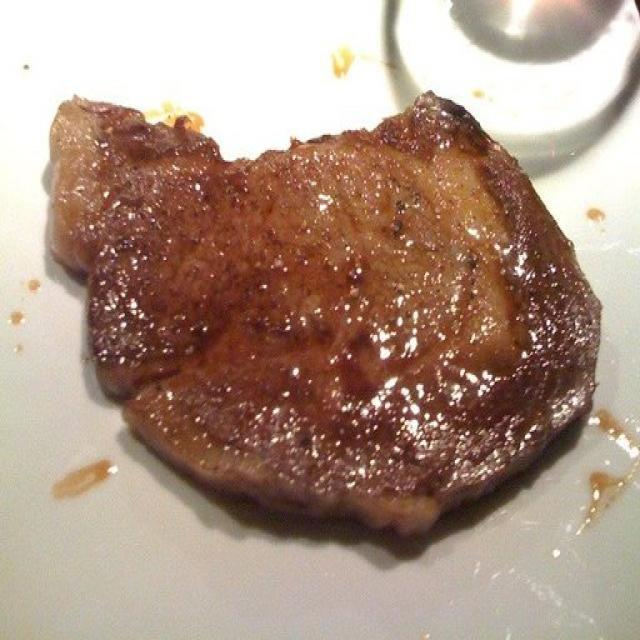Steak: (44, 78, 608, 566)
